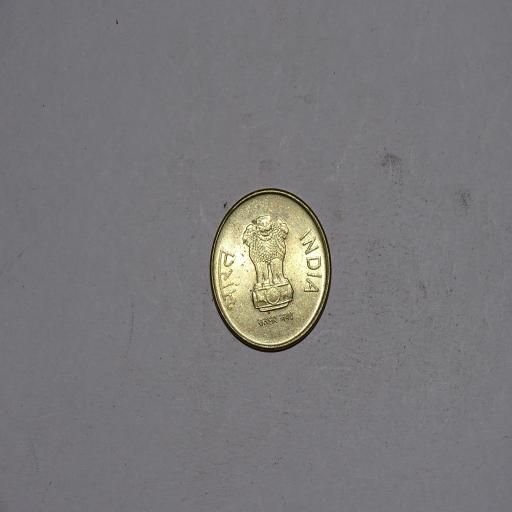rupee5: (202, 188, 332, 358)
